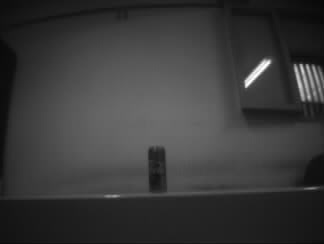Tin can: (147, 146, 167, 194)
